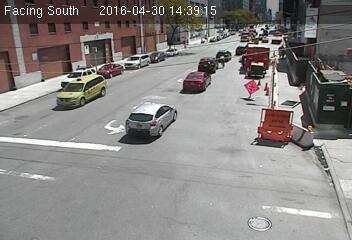neg: (277, 120, 318, 174), (200, 49, 232, 90), (130, 83, 160, 122), (44, 71, 74, 110), (45, 149, 72, 186), (91, 173, 117, 209), (208, 138, 234, 173), (117, 32, 143, 66), (154, 142, 179, 176), (256, 77, 281, 110), (239, 204, 261, 232), (31, 32, 50, 57)
